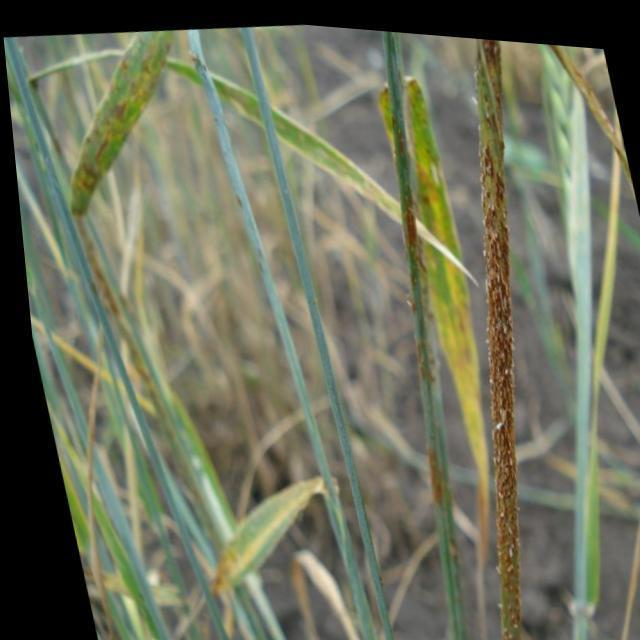Stem Rust: (379, 23, 509, 639), (61, 26, 172, 214)
